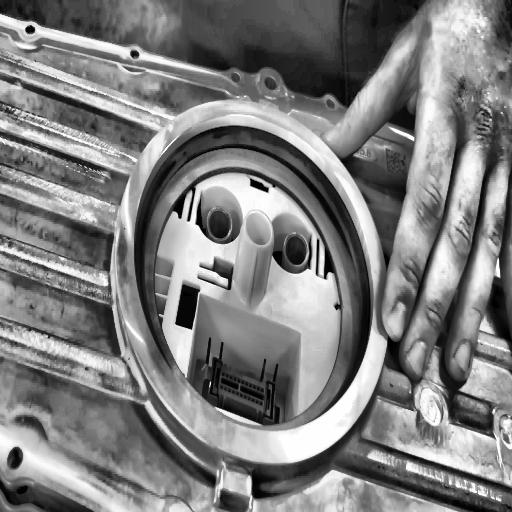connector: (112, 88, 400, 477)
